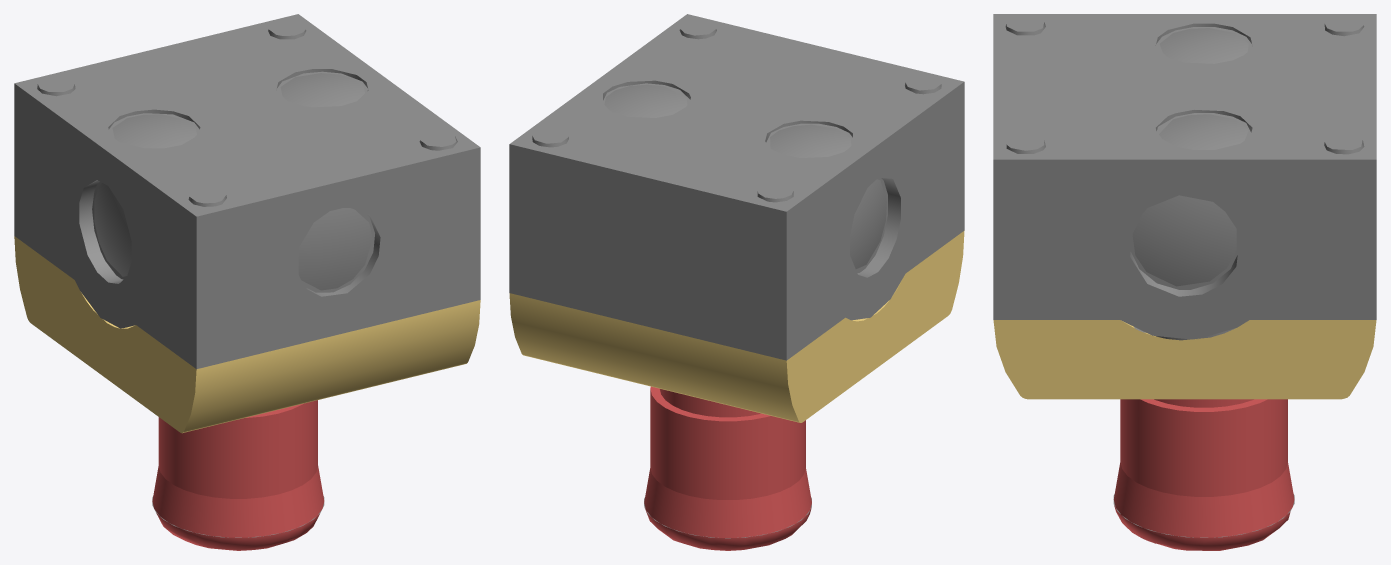
Rendered from estop.gltf.
3 renders of one model, left to right at view 1: azimuth 30°, elevation 25°; view 2: azimuth 150°, elevation 25°; view 3: azimuth 270°, elevation 25°, orthographic. The views are drawn at different scales.
Bounding box in the file's own units: 0.072 × 0.1039 × 0.08.
